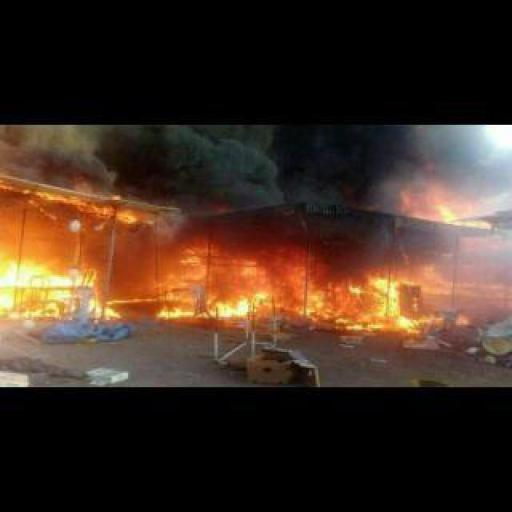smoke: (158, 242, 462, 328), (3, 256, 114, 320)
